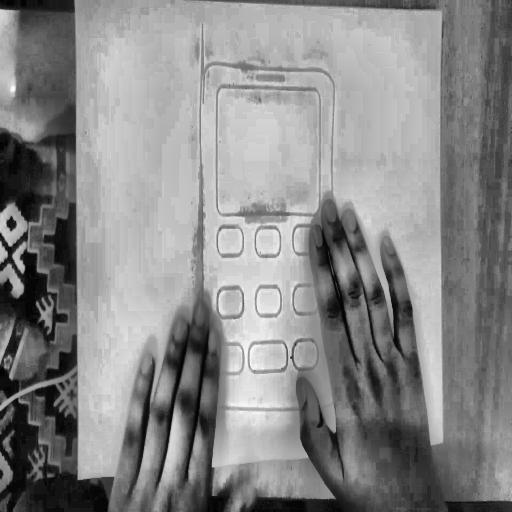bottom_left: (74, 471, 82, 485)
bottom_right: (439, 435, 447, 447)
mobile: (194, 11, 346, 425)
top_right: (439, 5, 446, 18)
